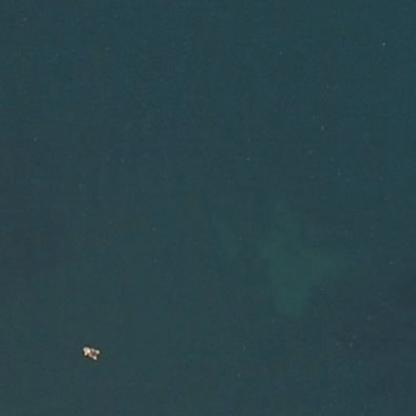ship: (80, 352, 102, 356)
